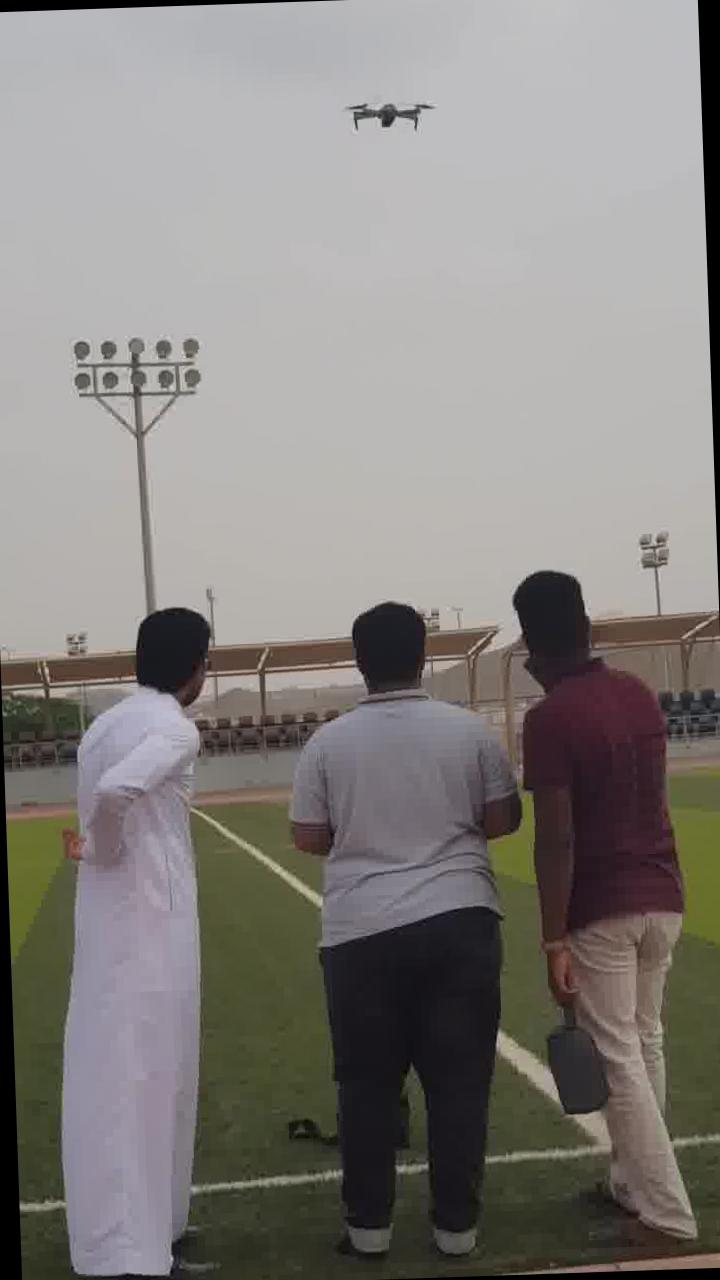drone: (332, 80, 441, 142)
